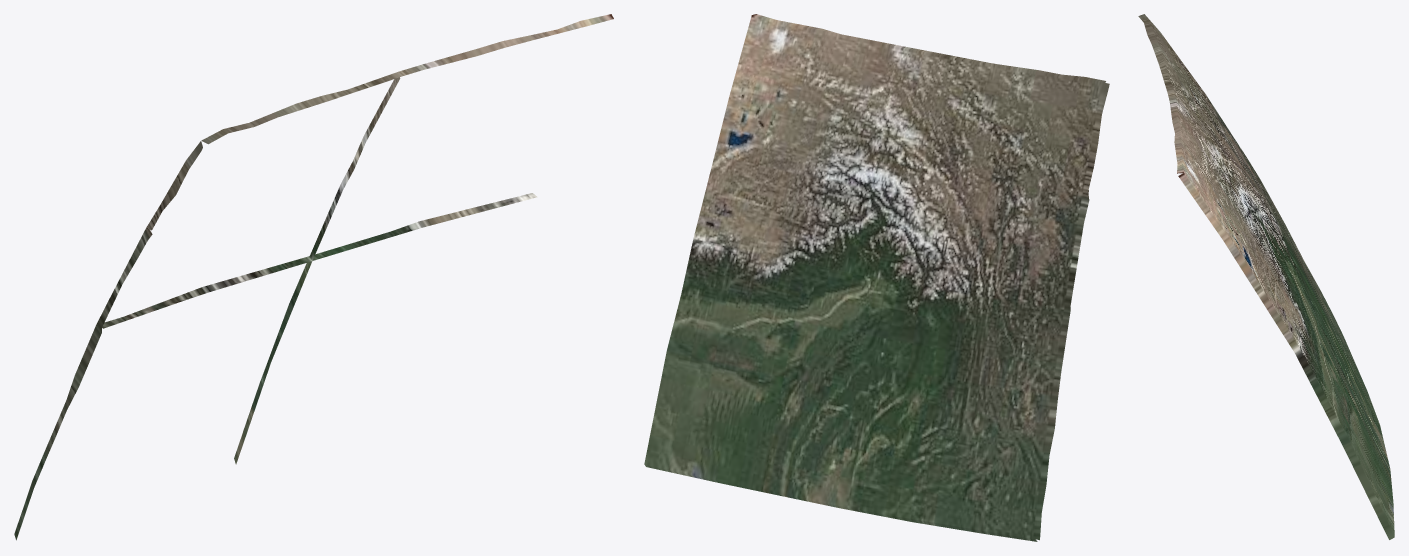
3 renders of one model, left to right at view 1: azimuth 30°, elevation 25°; view 2: azimuth 150°, elevation 25°; view 3: azimuth 270°, elevation 25°, orthographic. The views are drawn at different scales.
Size of the model in its own units: 1166865 by 1122086 by 705885.
Materials: 1 (1 with a texture image).
